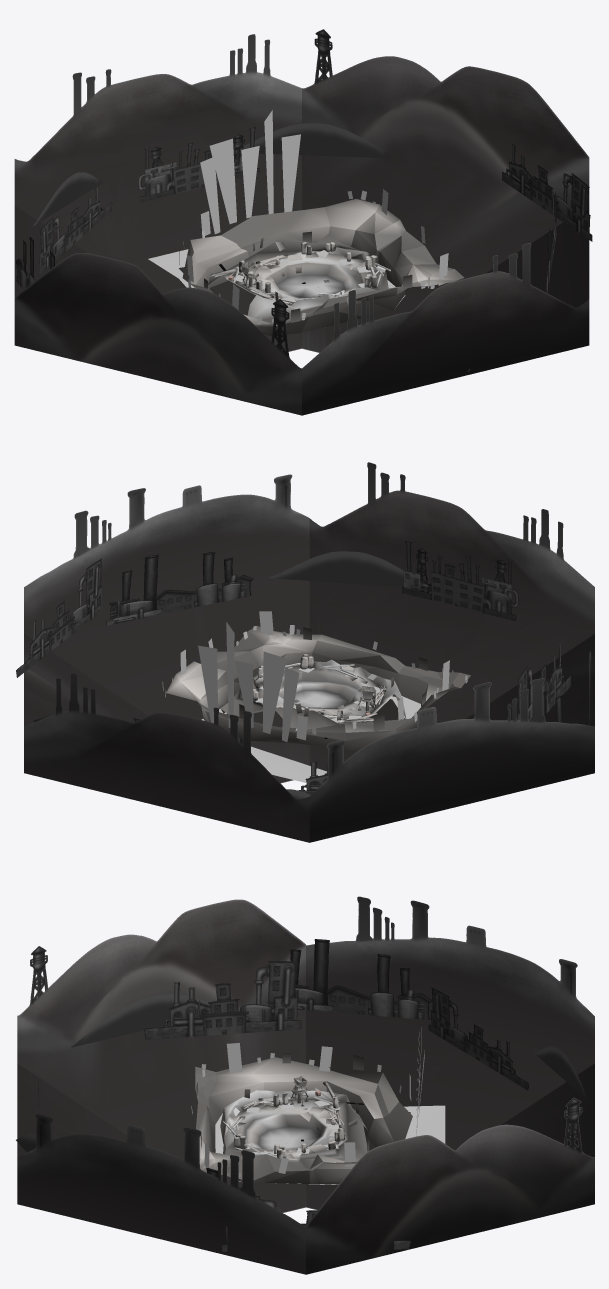
The model's file is MenuTerrain.fbx.
The picture shows the model from 3 angles, top to bottom: view 1: azimuth 30°, elevation 25°; view 2: azimuth 150°, elevation 25°; view 3: azimuth 270°, elevation 25°; orthographic projection.
Visible parts, largest first — view 1: hills4, hills3, hills1, hills6, polySurface82, polySurface81, hills5, Buildings7, Buildings2, Hill3, Buildings5, hills2 (+9 smaller); view 2: hills6, hills5, hills2, hills3, polySurface82, polySurface81, Buildings4, Buildings3, hills4, hills1, Hill4, Buildings7 (+7 smaller); view 3: hills1, hills2, hills4, hills5, polySurface82, polySurface81, Buildings1, Buildings6, hills6, hills3, Buildings5, Hill2 (+3 smaller).
Part boxes in pixels (box(x1,y1,x2,y2)): hills4: box(302, 29, 589, 352); hills3: box(14, 34, 301, 351); hills1: box(14, 253, 301, 415); hills6: box(302, 243, 589, 415); polySurface82: box(182, 199, 464, 335); polySurface81: box(208, 234, 388, 323); hills5: box(485, 205, 589, 307); Buildings7: box(502, 144, 592, 241); Buildings2: box(138, 127, 259, 202); Hill3: box(233, 123, 395, 158); Buildings5: box(38, 186, 112, 276); hills2: box(14, 205, 86, 296); hills6: box(309, 462, 594, 771); hills5: box(24, 474, 309, 783); hills2: box(309, 678, 594, 842); hills3: box(24, 672, 309, 842); polySurface82: box(166, 626, 470, 750); polySurface81: box(220, 659, 406, 729); Buildings4: box(402, 541, 518, 621); Buildings3: box(106, 552, 253, 625); hills4: box(24, 634, 148, 726); hills1: box(466, 634, 594, 726); Hill4: box(268, 551, 427, 589); Buildings7: box(16, 558, 101, 677); hills1: box(17, 899, 305, 1212); hills2: box(306, 896, 594, 1210); hills4: box(306, 1097, 594, 1274); hills5: box(17, 1113, 305, 1274); polySurface82: box(195, 1057, 412, 1184); polySurface81: box(220, 1090, 368, 1168); Buildings1: box(144, 961, 301, 1039); Buildings6: box(290, 939, 432, 1019); hills6: box(17, 1063, 126, 1156); hills3: box(501, 1063, 594, 1156); Buildings5: box(428, 987, 528, 1090); Hill2: box(70, 993, 209, 1047).
Size of what is drawn, in the model's own units: 1129 by 411 by 983.
